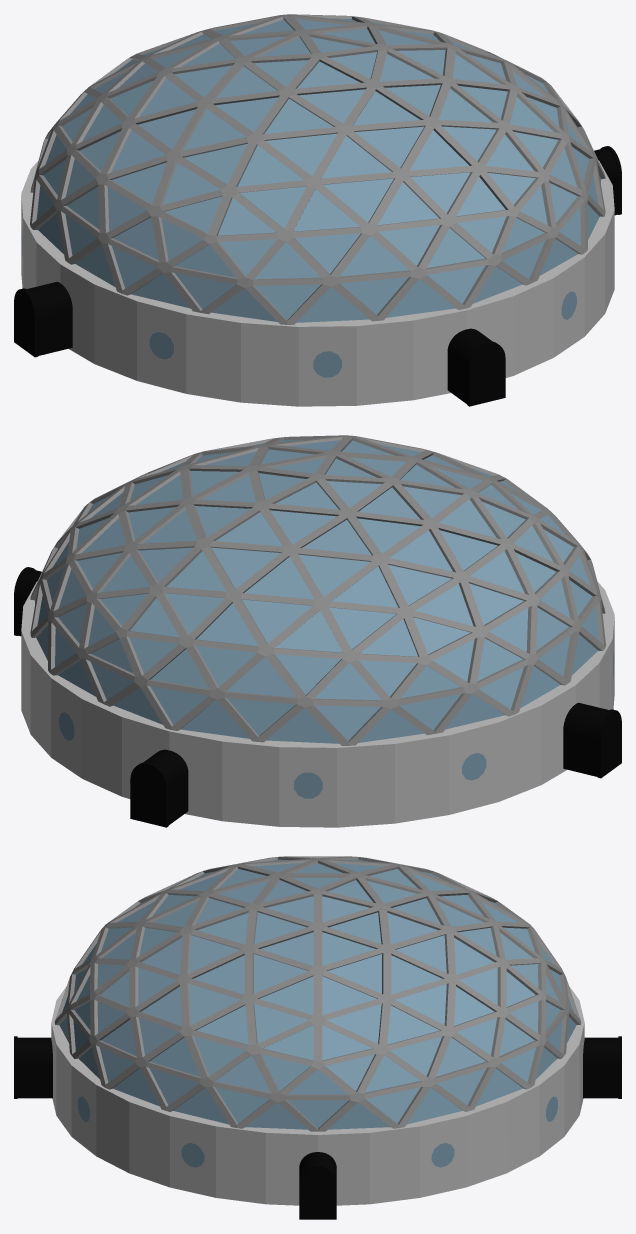
File: low-poly_lunar_habitat.glb
3 views of the same model, one above another, from view 1: azimuth 30°, elevation 25°; view 2: azimuth 150°, elevation 25°; view 3: azimuth 270°, elevation 25° (orthographic). The views are drawn at different scales.
Parts seen in each view (by area): view 1: Dome glass, Dome frame, body, connector.002, connector wall.001, connector, connector wall, connector.003; view 2: Dome glass, Dome frame, body, connector.002, connector wall.003, connector.001, connector wall, connector.003; view 3: Dome glass, Dome frame, body, connector, connector.001, connector wall.002, connector.003.
Part boxes in pixels (bbox=[...]): Dome glass: bbox=[36, 18, 601, 322]; Dome frame: bbox=[30, 14, 605, 324]; body: bbox=[21, 160, 614, 406]; connector.002: bbox=[27, 282, 72, 355]; connector wall.001: bbox=[467, 341, 505, 406]; connector: bbox=[447, 328, 491, 404]; connector wall: bbox=[14, 288, 38, 357]; connector.003: bbox=[594, 148, 618, 215]; Dome glass: bbox=[34, 439, 599, 743]; Dome frame: bbox=[30, 435, 605, 745]; body: bbox=[21, 581, 614, 827]; connector.002: bbox=[563, 703, 608, 776]; connector wall.003: bbox=[130, 762, 168, 827]; connector.001: bbox=[144, 749, 188, 825]; connector wall: bbox=[597, 709, 621, 778]; connector.003: bbox=[17, 569, 41, 636]; Dome glass: bbox=[59, 859, 576, 1129]; Dome frame: bbox=[54, 856, 581, 1131]; body: bbox=[51, 986, 584, 1205]; connector: bbox=[17, 1037, 52, 1098]; connector.001: bbox=[583, 1037, 618, 1098]; connector wall.002: bbox=[299, 1165, 336, 1219]; connector.003: bbox=[299, 1152, 336, 1179].
Bounding box in the file's own units: 16.19 × 5.94 × 16.19.
